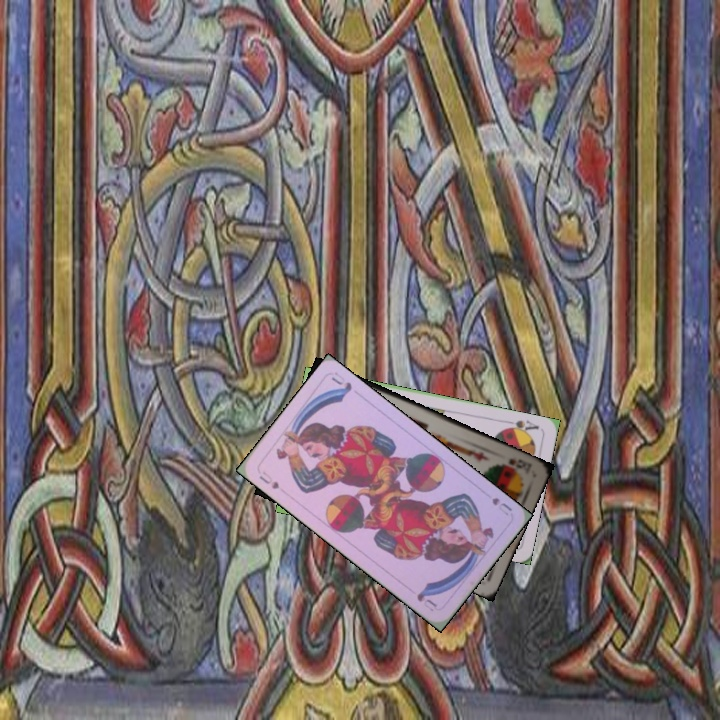SA: (500, 416, 542, 437)
SK: (505, 454, 534, 476)
SU: (488, 493, 515, 518), (255, 467, 282, 492)
